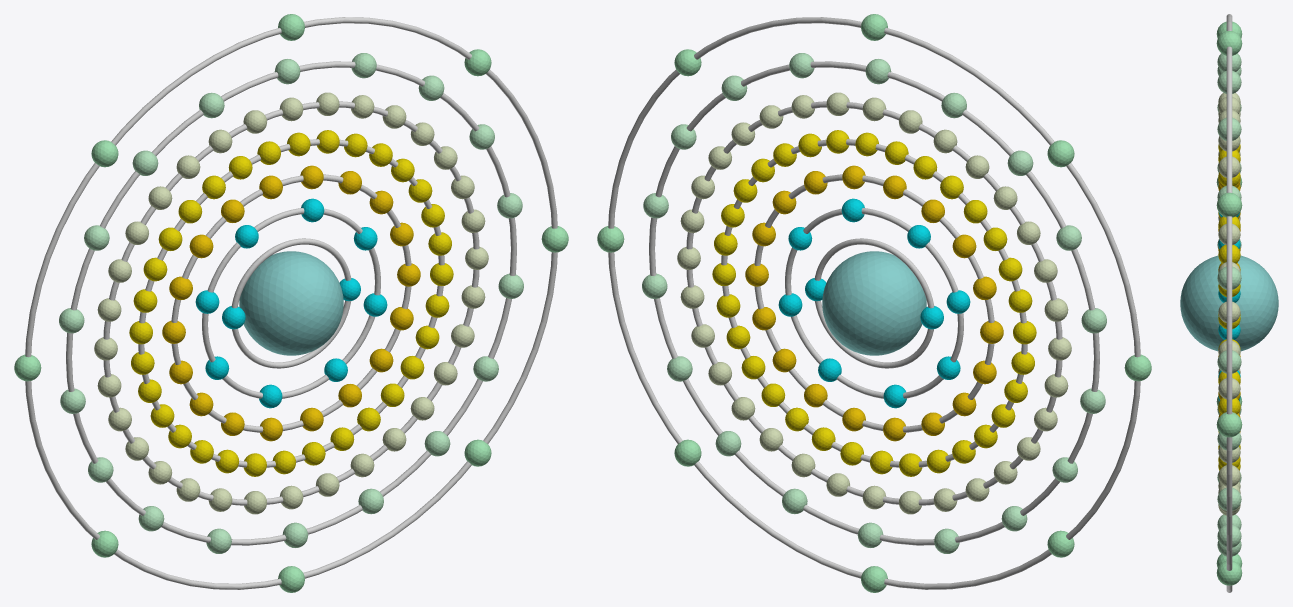
3 views of the same model, side by side, from view 1: azimuth 30°, elevation 25°; view 2: azimuth 150°, elevation 25°; view 3: azimuth 270°, elevation 25° (orthographic). The views are drawn at different scales.
Parts seen in each view (by area): view 1: world; view 2: world; view 3: world.
Part boxes in pixels (<box>): world: <box>14,14,568,592</box>; world: <box>597,14,1151,592</box>; world: <box>1180,14,1278,592</box>.
Size of the model in its own units: 2.67 by 2.67 by 0.44.
